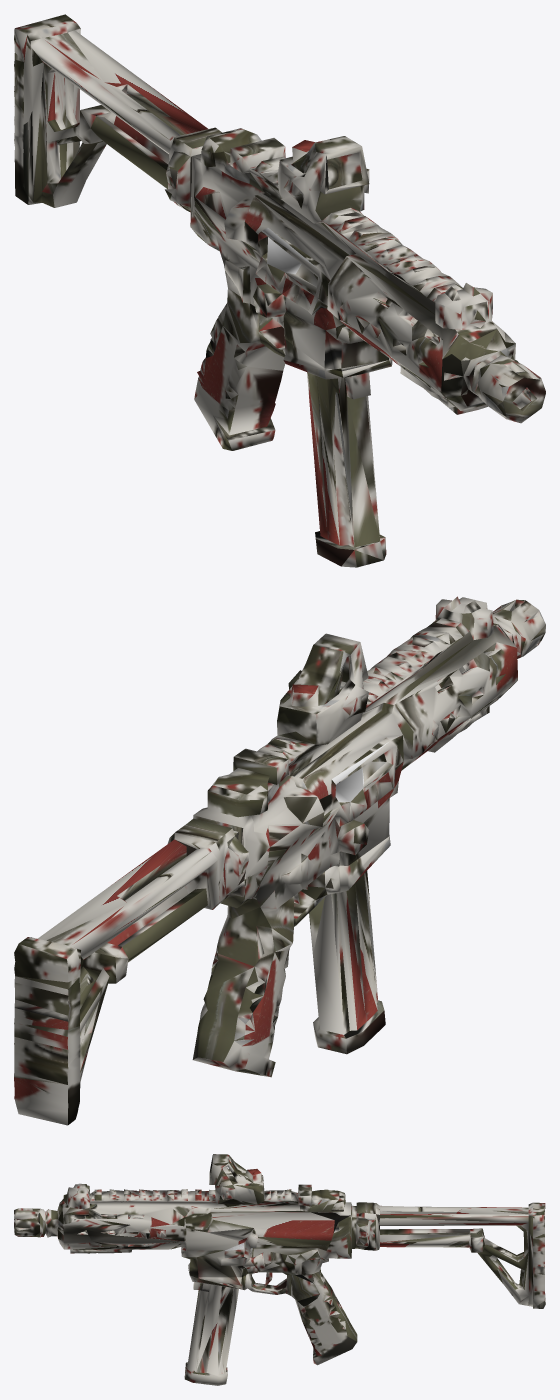
3 views of the same model, one above another, from view 1: azimuth 30°, elevation 25°; view 2: azimuth 150°, elevation 25°; view 3: azimuth 270°, elevation 25° (orthographic). The views are drawn at different scales.
Parts seen in each view (by area): view 1: Body, Magazine, ChargingHandle; view 2: Body, Magazine; view 3: Body, Magazine, ChargingHandle.
Boxes of the visible parts, <box> form: Body: <box>14,14,545,450</box>; Magazine: <box>282,339,392,567</box>; ChargingHandle: <box>255,252,295,293</box>; Body: <box>14,596,545,1125</box>; Magazine: <box>301,835,390,1054</box>; Body: <box>14,1154,545,1365</box>; Magazine: <box>184,1263,255,1385</box>; ChargingHandle: <box>207,1228,257,1258</box>.
Bounding box in the file's own units: 0.1141 × 0.4261 × 0.9233.
